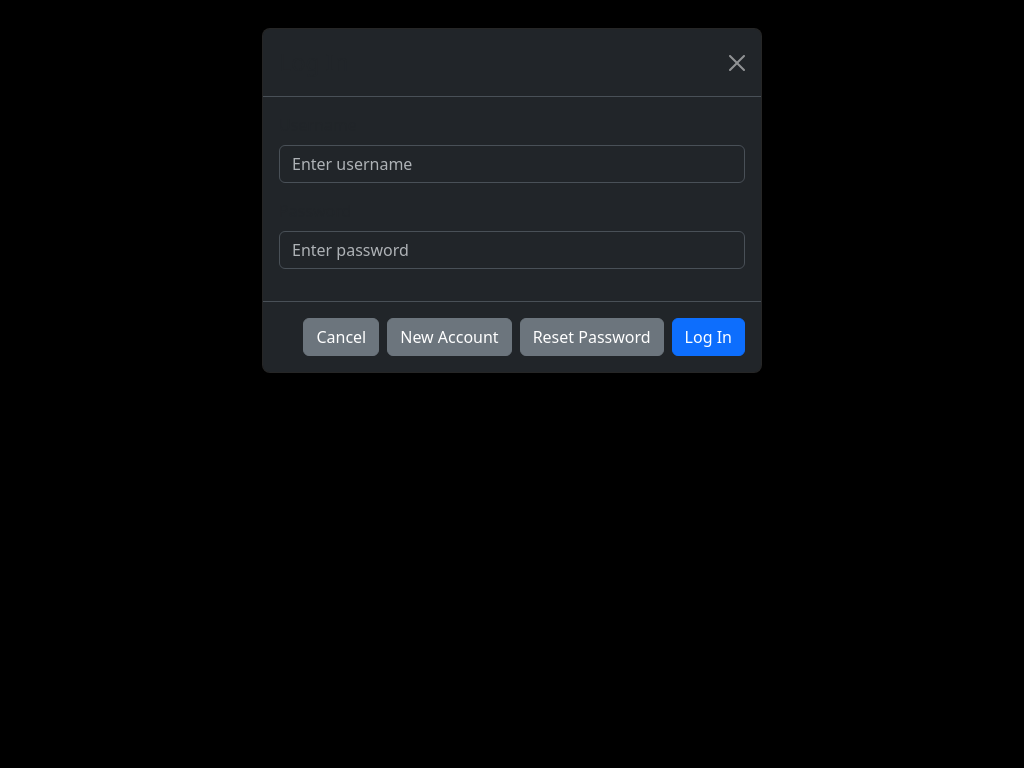
it: new-account menu › contents › should have a secondary password input field
The width and height of the screenshot is (1024, 768).
Click the button "New Account".
click(449, 337)  # box [387, 318, 512, 356]
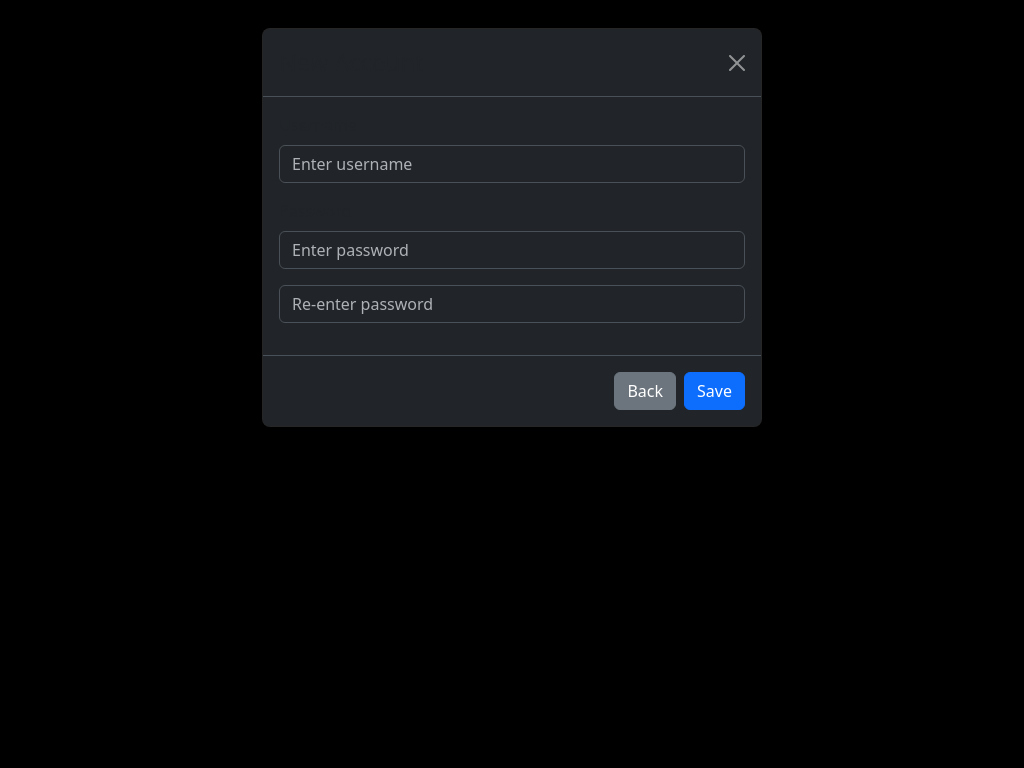
Expected: the password field with placeholder "Re-enter password" is shown, [279, 285, 745, 323]
